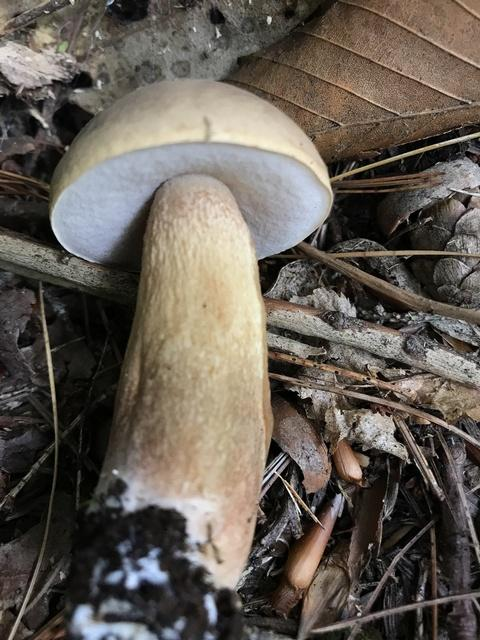Non-edible Mushroom: (46, 76, 335, 634)
